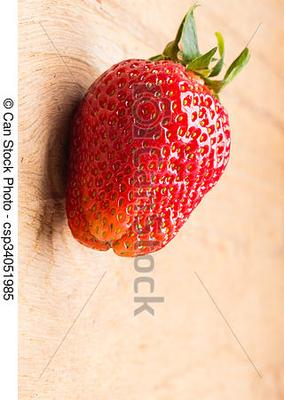strawberry: (0, 0, 284, 400)
